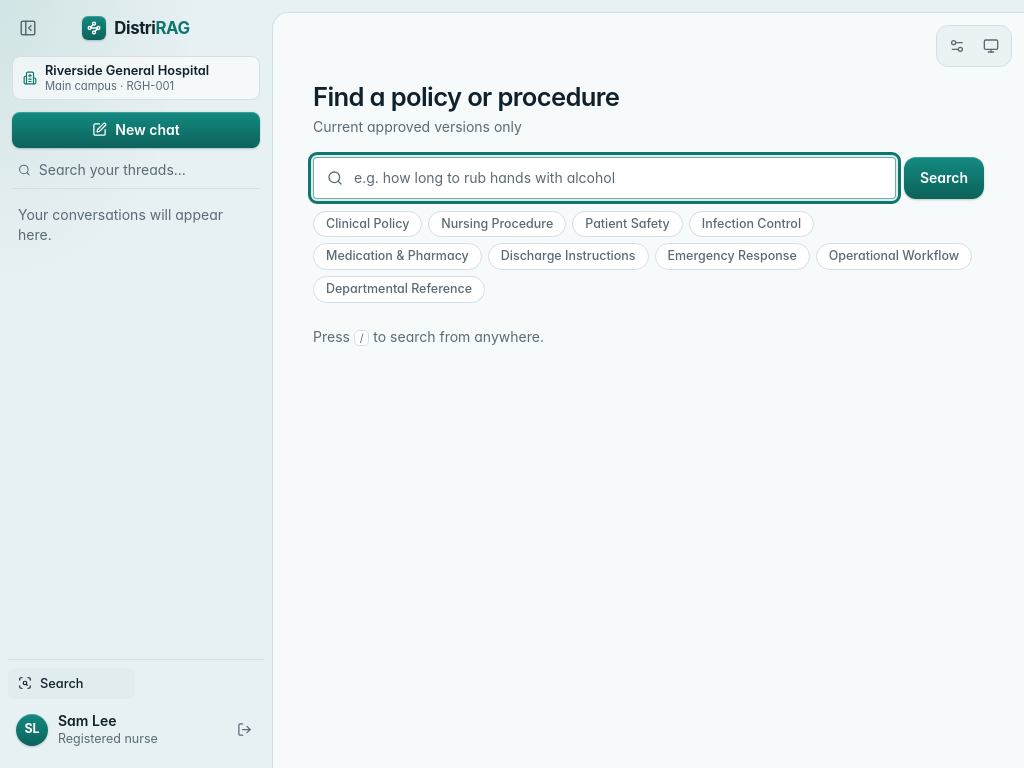
Test case: search syncs the URL and renders source cards
Type "alcohol rub" into the search field named "Search approved documents". click: (604, 178)
box: top-left (313, 157), bottom-right (896, 199)
Then press Enter
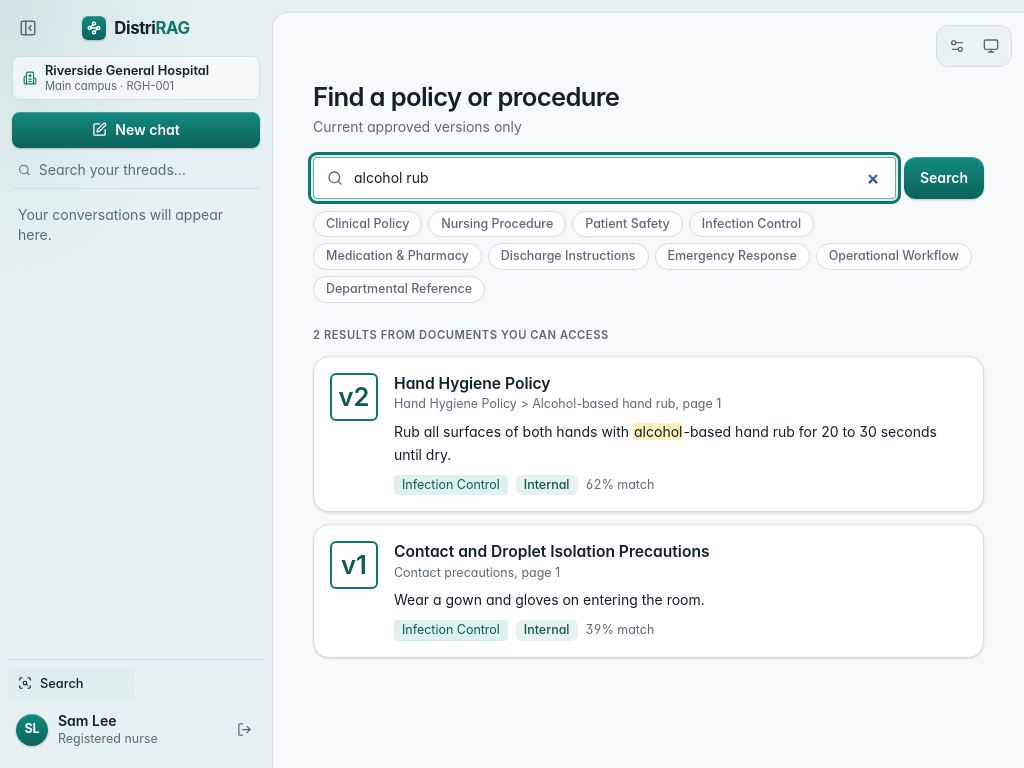
Expected: the link "Hand Hygiene Policy" is shown, top-left (394, 374), bottom-right (550, 393)
Expected: the text "2 results from documents you can access" is shown, top-left (313, 328), bottom-right (609, 342)
Expected: the text named "Version 2" is shown, top-left (330, 373), bottom-right (378, 421)
